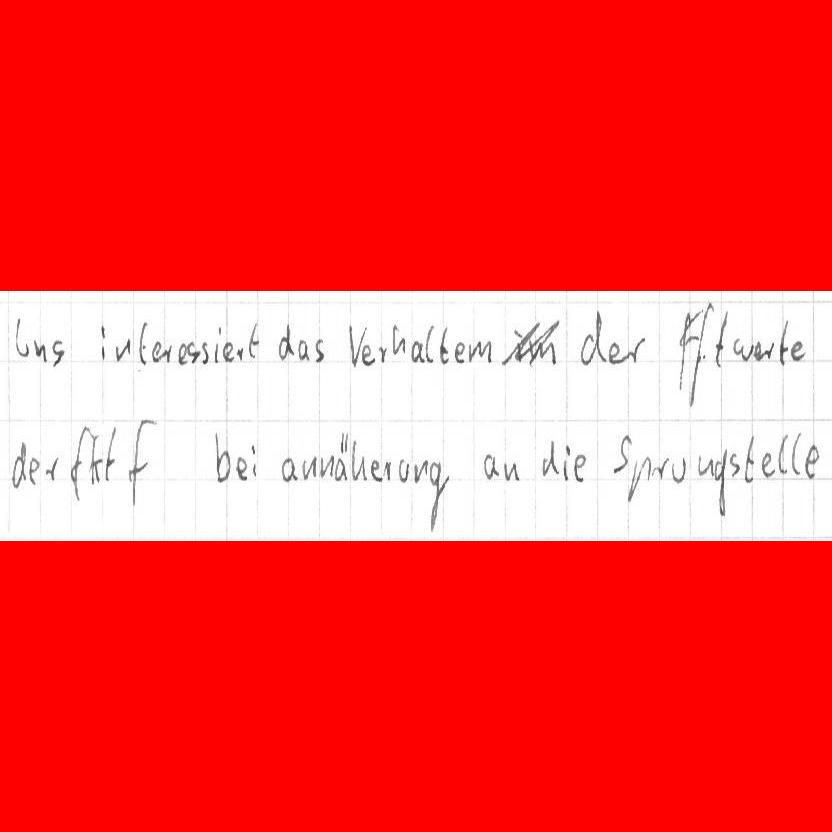Char: (677, 303, 708, 394), (127, 417, 151, 500), (578, 312, 605, 366), (429, 464, 450, 530), (503, 321, 531, 366), (88, 425, 108, 485), (70, 430, 86, 503), (627, 455, 651, 503), (713, 447, 727, 517), (212, 431, 230, 485), (330, 431, 349, 481), (713, 308, 729, 367), (540, 320, 560, 365), (9, 439, 26, 490), (103, 425, 117, 483), (539, 438, 559, 478), (613, 434, 631, 477), (12, 315, 29, 359), (345, 325, 362, 367), (469, 336, 492, 364), (782, 436, 798, 476), (804, 443, 822, 476), (777, 317, 789, 366), (278, 324, 294, 360), (627, 334, 645, 365), (352, 439, 365, 481), (137, 320, 149, 365), (302, 456, 324, 480), (669, 455, 687, 484), (113, 337, 133, 363), (248, 322, 261, 360), (744, 435, 755, 479), (483, 453, 500, 481), (279, 456, 298, 481), (44, 456, 62, 482), (748, 338, 768, 361), (392, 323, 405, 358), (423, 329, 436, 363), (650, 455, 667, 481), (695, 455, 716, 476), (248, 440, 259, 480), (211, 326, 222, 365), (412, 458, 429, 483), (573, 453, 587, 483), (439, 327, 451, 362), (503, 458, 521, 481), (31, 338, 48, 362), (369, 457, 385, 482), (732, 336, 748, 361), (51, 339, 65, 367), (98, 323, 108, 362), (562, 442, 572, 481), (607, 341, 623, 365), (179, 341, 195, 365), (726, 453, 740, 480), (760, 451, 774, 478), (790, 339, 807, 361), (360, 343, 376, 366), (27, 455, 39, 485), (409, 339, 424, 363), (156, 343, 173, 363), (313, 338, 327, 361), (397, 457, 409, 483), (297, 338, 310, 362), (197, 342, 211, 364), (235, 457, 248, 480), (455, 342, 467, 364), (223, 343, 236, 361), (377, 344, 387, 364), (235, 345, 244, 361)
